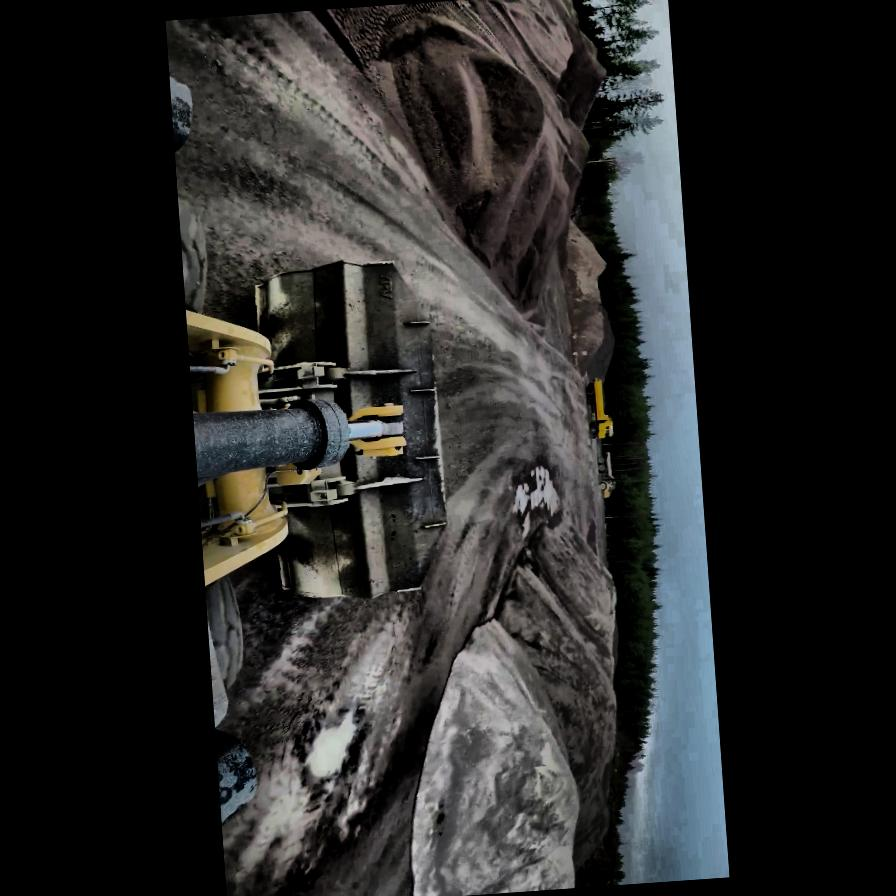anchor: (346, 400, 408, 456)
pile of gravel: (397, 618, 587, 896), (386, 9, 565, 292), (483, 543, 633, 867), (482, 110, 590, 306), (509, 520, 617, 677), (560, 218, 618, 378), (552, 18, 614, 131), (562, 113, 594, 187), (602, 572, 624, 678), (595, 302, 619, 379), (577, 25, 602, 70), (588, 44, 610, 94), (590, 232, 612, 278)
